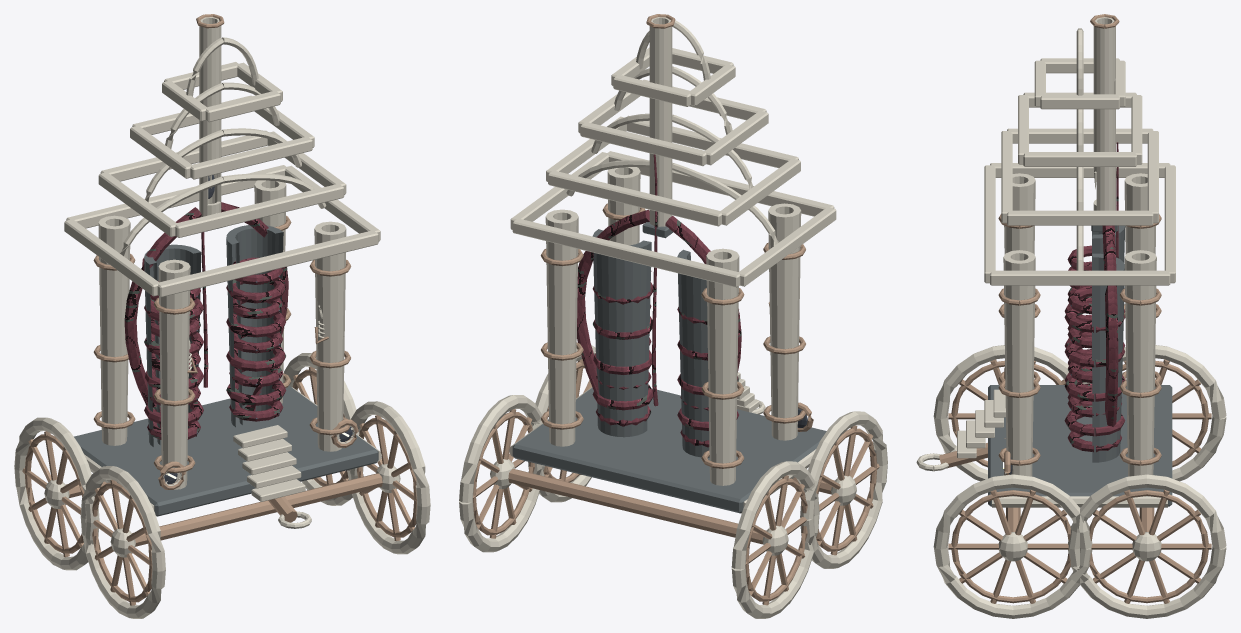
The model's file is processional_reed_chariot.glb.
3 renders of one model, left to right at view 1: azimuth 30°, elevation 25°; view 2: azimuth 150°, elevation 25°; view 3: azimuth 270°, elevation 25°, orthographic. The views are drawn at different scales.
Parts seen in each view (by area): view 1: processional_reed_chariot_warm, processional_reed_chariot_petrol, processional_reed_chariot_worn, processional_reed_chariot_bruised; view 2: processional_reed_chariot_warm, processional_reed_chariot_petrol, processional_reed_chariot_worn, processional_reed_chariot_bruised; view 3: processional_reed_chariot_warm, processional_reed_chariot_worn, processional_reed_chariot_petrol, processional_reed_chariot_bruised.
Part boxes in pixels (x1,y1,x2,y2): processional_reed_chariot_warm: (14,17,430,618); processional_reed_chariot_petrol: (74,225,378,516); processional_reed_chariot_worn: (22,14,416,605); processional_reed_chariot_bruised: (124,202,288,439); processional_reed_chariot_warm: (459,17,887,618); processional_reed_chariot_petrol: (512,222,826,513); processional_reed_chariot_worn: (473,14,879,605); processional_reed_chariot_bruised: (577,154,741,447); processional_reed_chariot_warm: (916,17,1226,618); processional_reed_chariot_worn: (939,14,1211,603); processional_reed_chariot_petrol: (988,225,1172,506); processional_reed_chariot_bruised: (1064,142,1125,452).
Bounding box in the file's own units: 4.72 × 8.37 × 4.4.
Materials: 6 (1 with a texture image).
